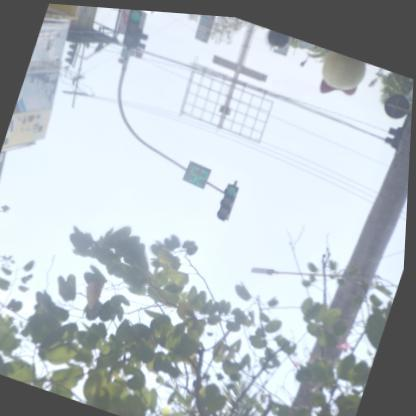green: (118, 6, 146, 48), (216, 177, 242, 218)
